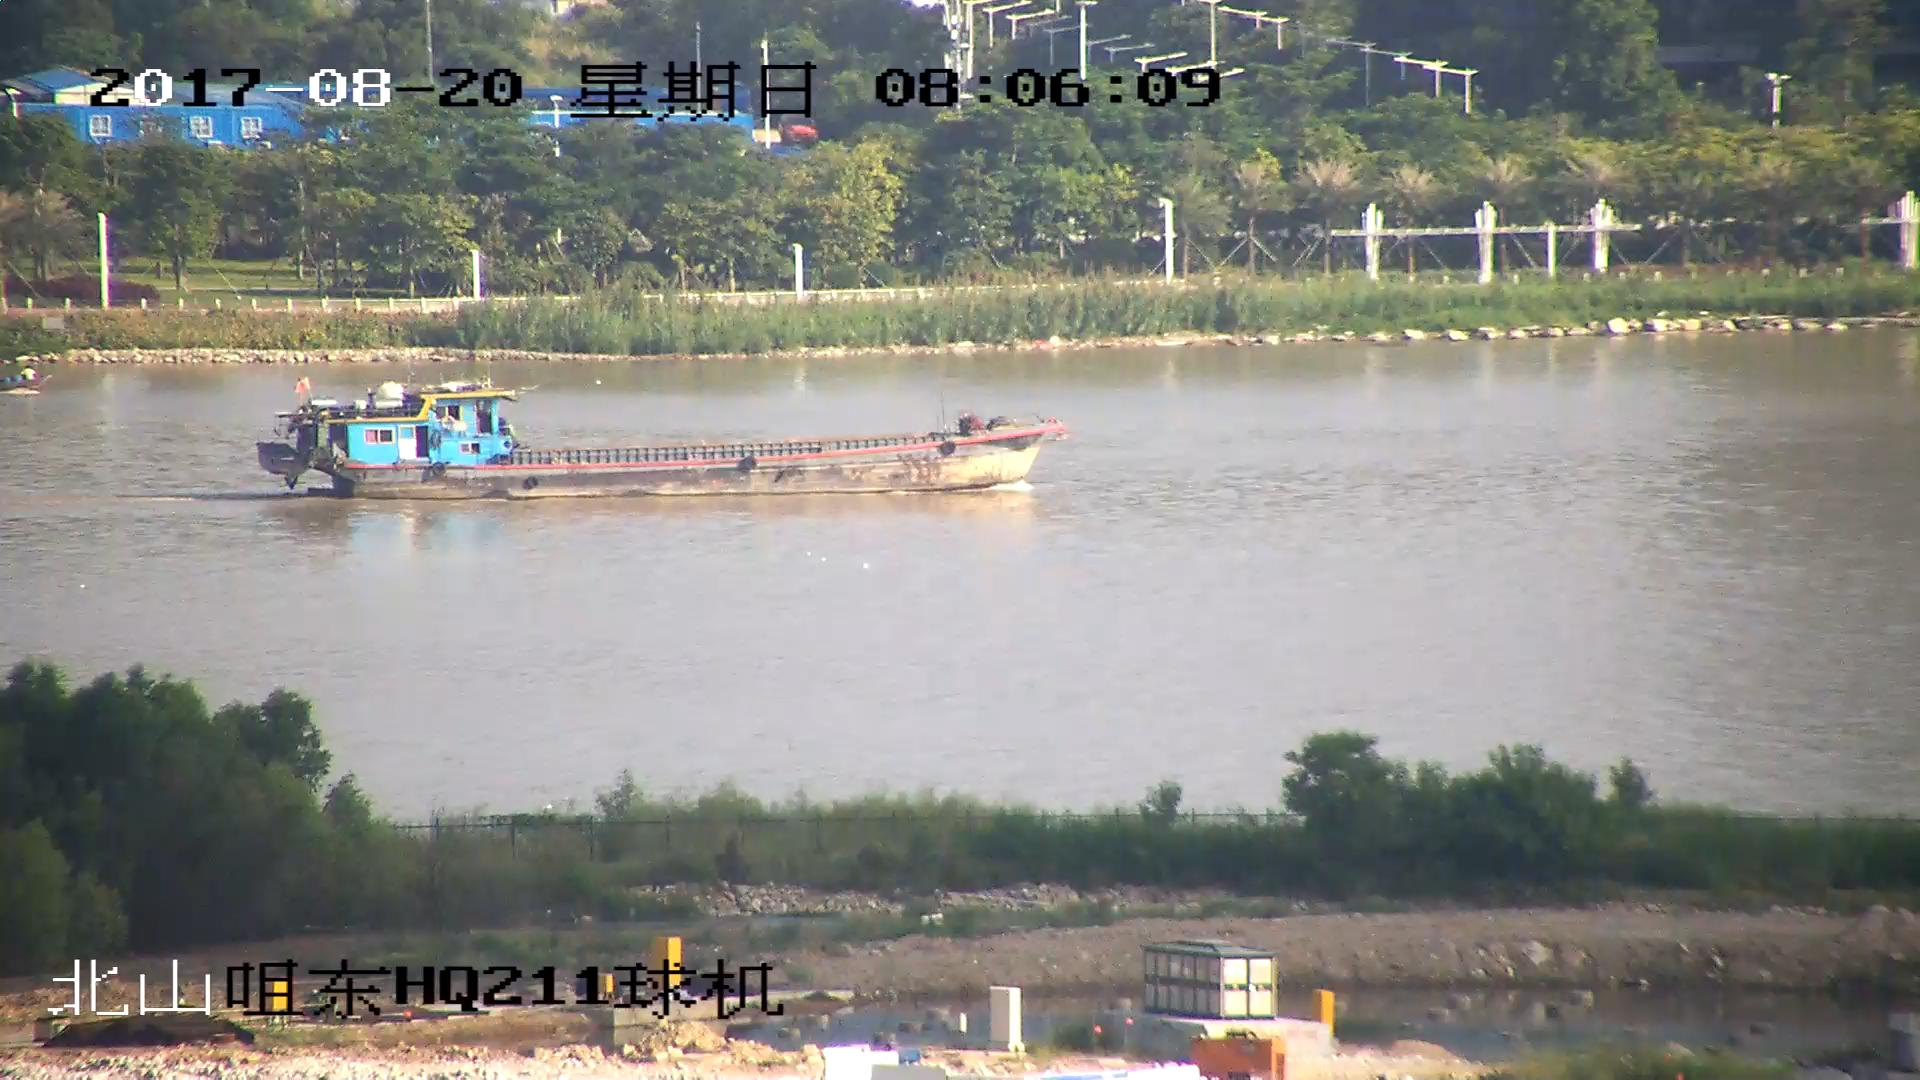fishing boat: (257, 390, 1061, 499)
